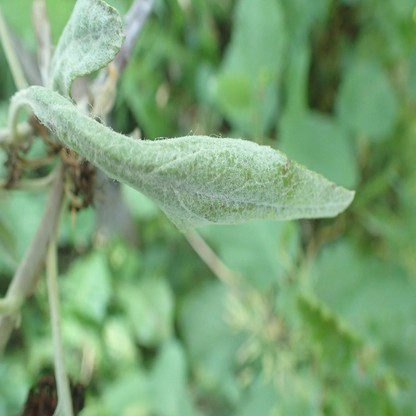powdery_mildew: (25, 84, 355, 223), (47, 0, 125, 104)
